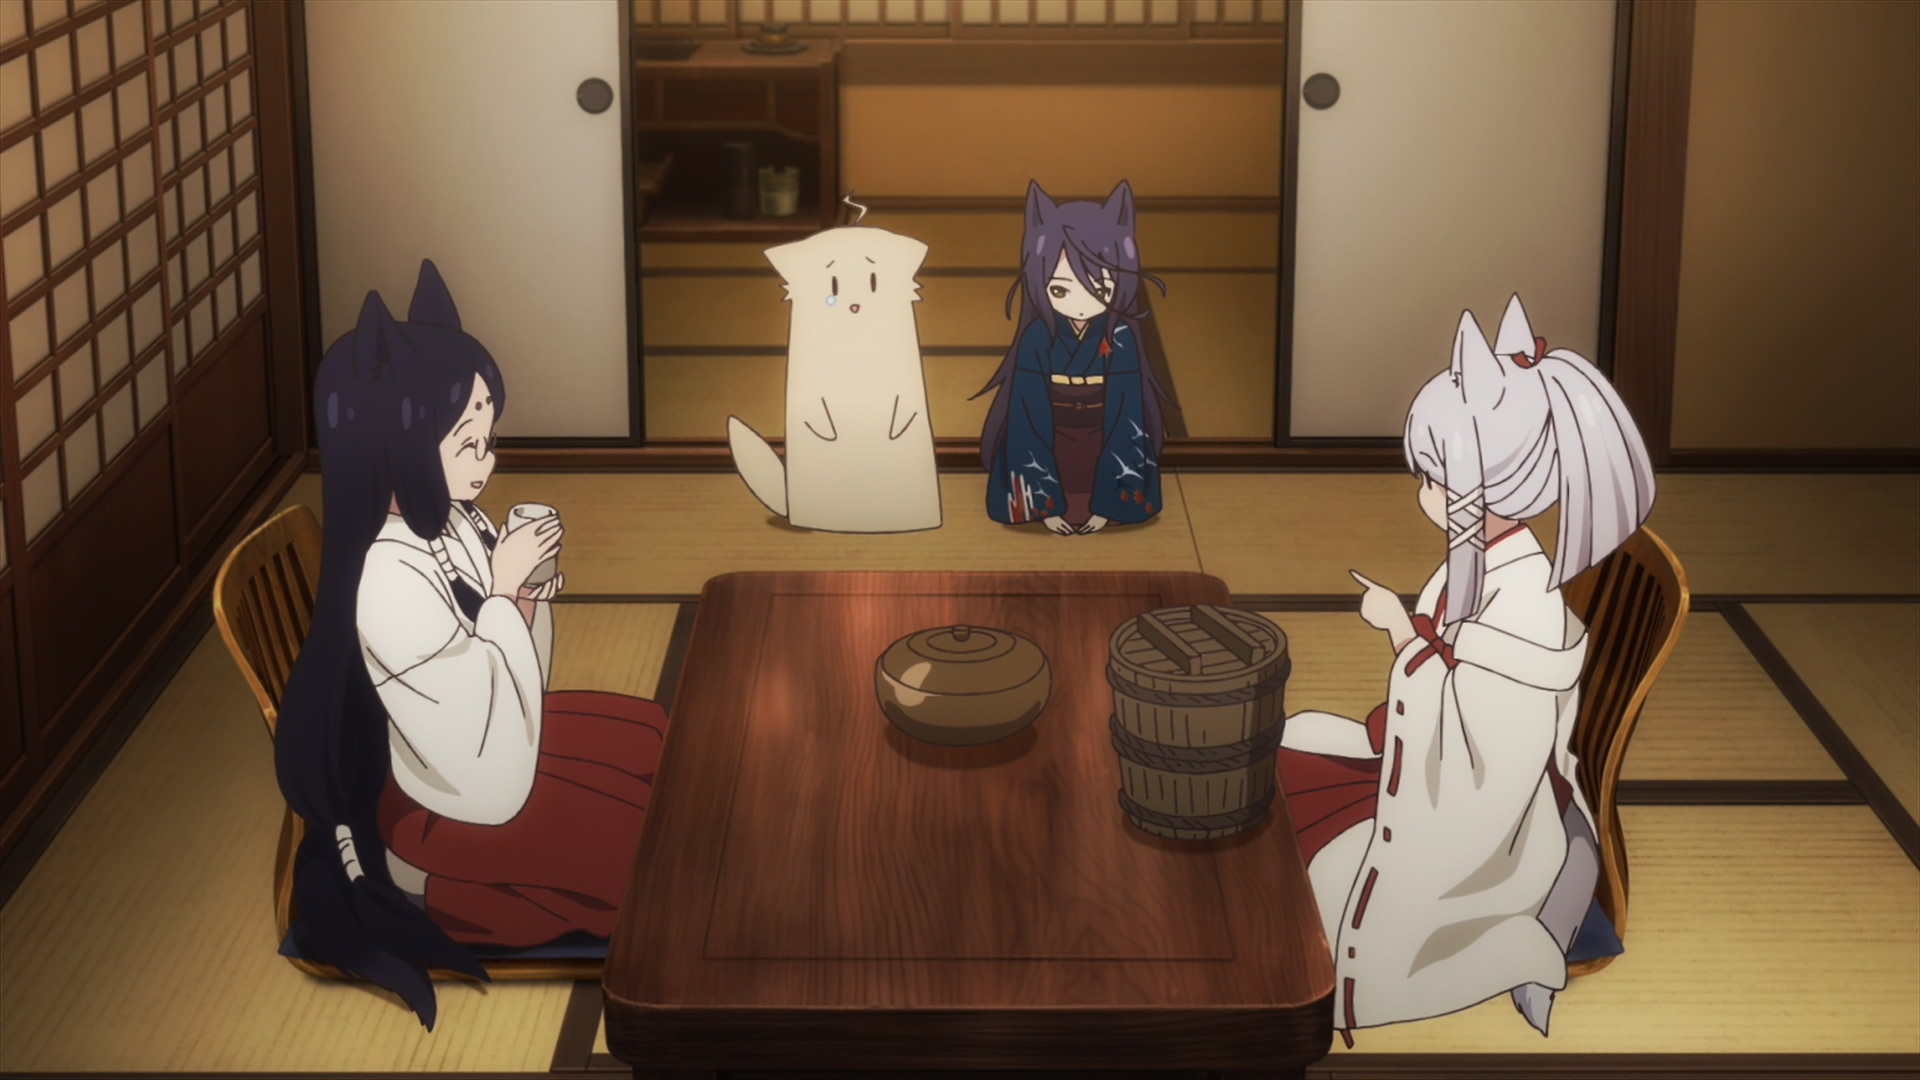柊: (1278, 294, 1659, 1040)
柚: (731, 194, 945, 531)
皋: (967, 178, 1164, 537)
菖: (274, 257, 671, 1035)
